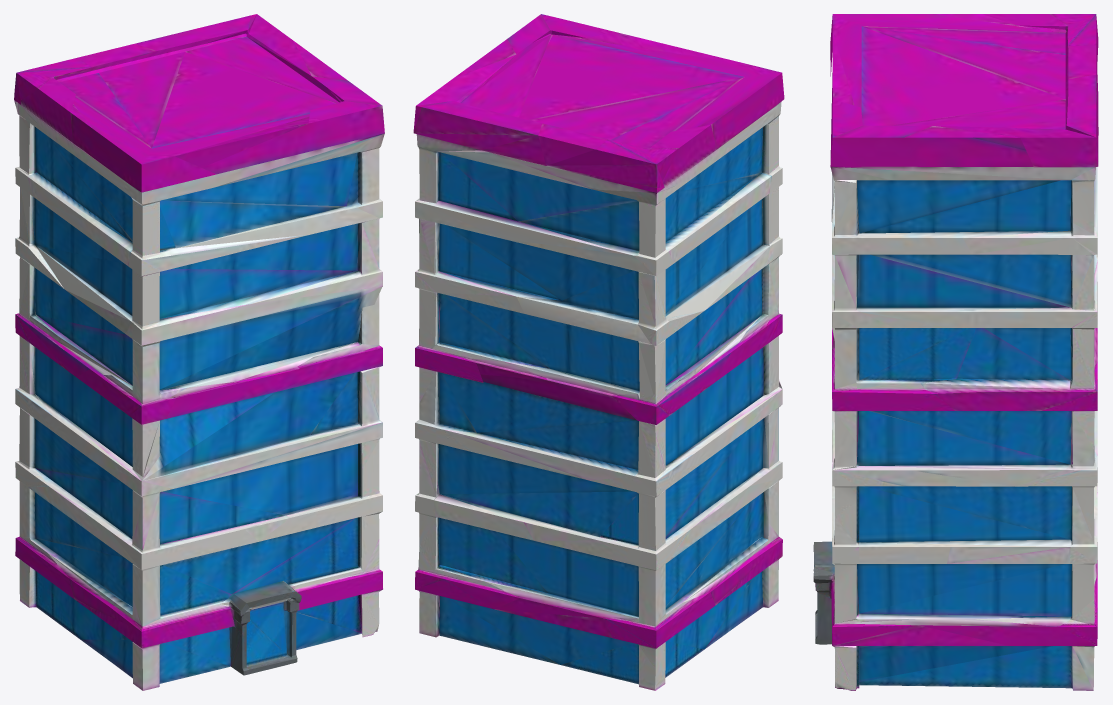
The model's file is tower3.glb.
3 renders of one model, left to right at view 1: azimuth 30°, elevation 25°; view 2: azimuth 150°, elevation 25°; view 3: azimuth 270°, elevation 25°, orthographic. The views are drawn at different scales.
Bounding box in the file's own units: 0.9186 × 1.9 × 0.8836.
Materials: 1 (1 with a texture image).
